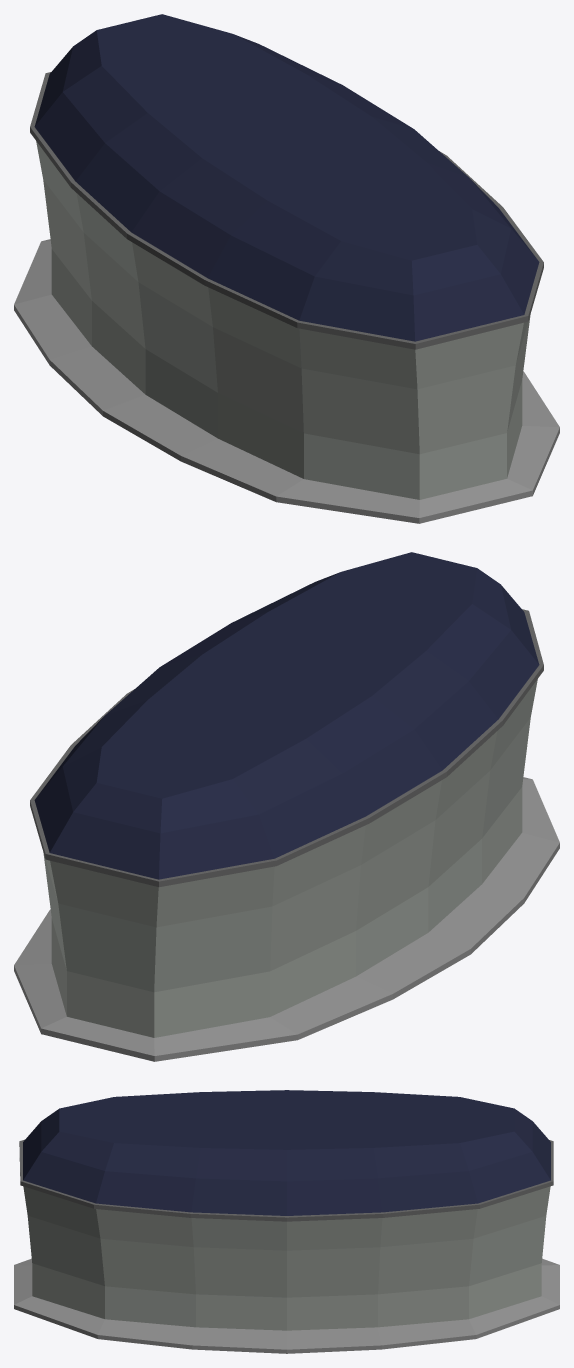
File: p-bld-background-10.glb
3 renders of one model, top to bottom at view 1: azimuth 30°, elevation 25°; view 2: azimuth 150°, elevation 25°; view 3: azimuth 270°, elevation 25°, orthographic. The views are drawn at different scales.
Parts seen in each view (by area): view 1: Cube; view 2: Cube; view 3: Cube.
Boxes of the visible parts, <box> form: Cube: <box>14,14,559,523</box>; Cube: <box>14,552,559,1061</box>; Cube: <box>14,1090,559,1353</box>.
Bounding box in the file's own units: 33.7 × 20.5 × 60.
